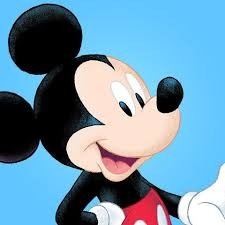mickey: (1, 3, 186, 225)
